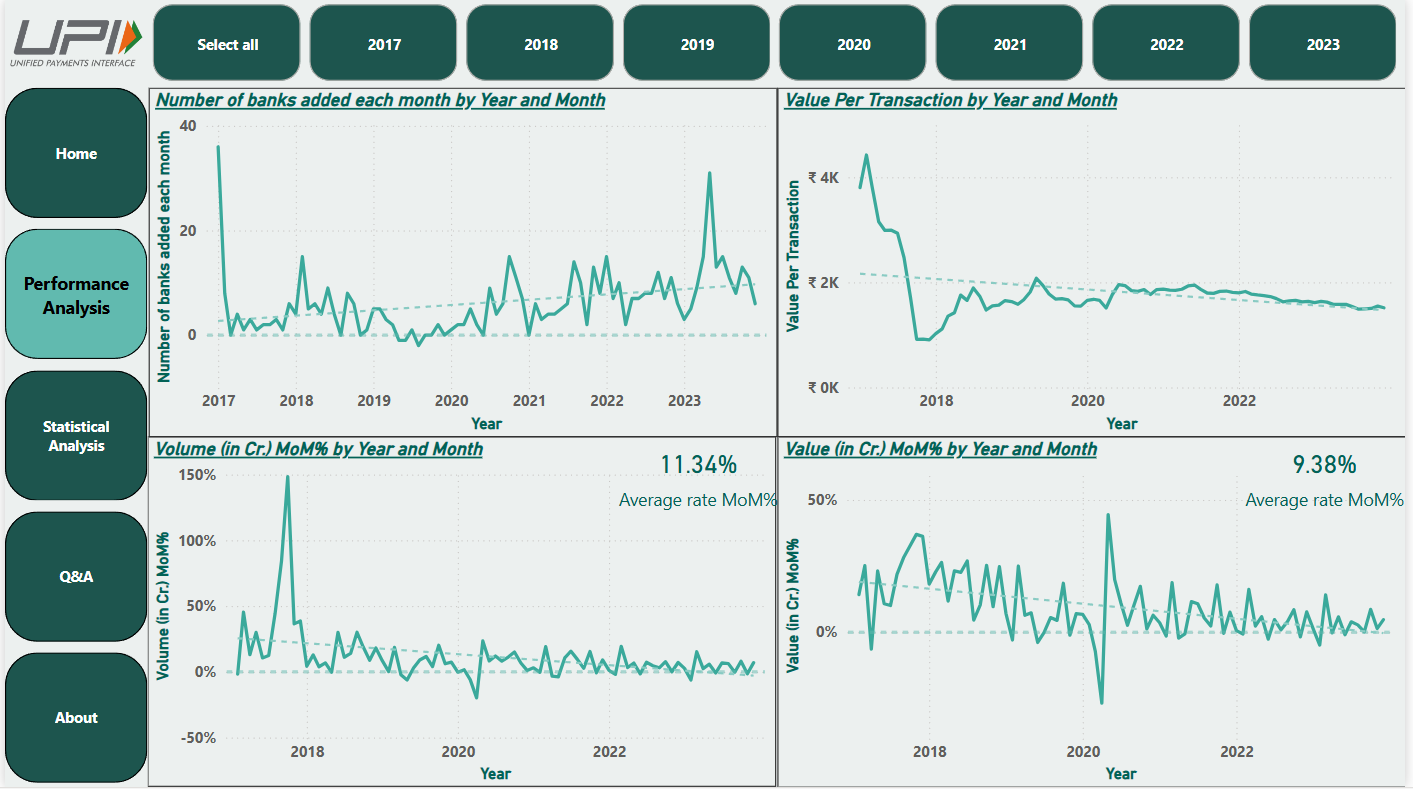

The dashboard page shown, as its layout file describes it:
{"tool":"powerbi","page":{"name":"Performance Analysis","canvas":[1280,720],"ordinal":1},"visuals":[{"type":"lineChart","fields":{"Category":["UPI Data.Month.Variation.Date Hierarchy.Year","UPI Data.Month.Variation.Date Hierarchy.Month"],"Y":["UPI Data.Value (in Cr.) MoM%"]},"box":[705.5,399.2,574.1,320.8],"z":0},{"type":"lineChart","fields":{"Category":["UPI Data.Month.Variation.Date Hierarchy.Year","UPI Data.Month.Variation.Date Hierarchy.Month"],"Y":["UPI Data.Volume (in Cr.) MoM%"]},"box":[129.8,399.6,574.2,320.3],"z":1000},{"type":"lineChart","fields":{"Category":["UPI Data.Month.Variation.Date Hierarchy.Year","UPI Data.Month.Variation.Date Hierarchy.Month"],"Y":["UPI Data.Value Per Transaction"]},"box":[705.3,80.7,574.5,319],"z":2000},{"type":"lineChart","title":"Number of banks added each month by Year and Month","fields":{"Y":["UPI Data.number of banks added each month"],"Category":["UPI Data.Month.Variation.Date Hierarchy.Year","UPI Data.Month.Variation.Date Hierarchy.Month"]},"box":[130.8,80.7,574.5,319],"z":3000},{"type":"advancedSlicerVisual","fields":{"Values":["UPI Data.Month.Variation.Date Hierarchy.Year"]},"box":[129.8,0,1149.9,80.8],"z":4000},{"type":"image","box":[0,0,130.8,80.7],"z":5000},{"type":"pageNavigator","box":[0,80.7,130.8,639.3],"z":6000},{"type":"card","fields":{"Values":["_Measures.Average rate of Value MoM%"]},"box":[1130.4,399.3,149.6,71.2],"z":7000},{"type":"card","fields":{"Values":["_Measures.Average rate of Volume MoM%"]},"box":[557.4,399.3,147.2,71.2],"z":8000}]}

Visuals, with their boxes in screenshot pixels (x1, y1, x2, y2), scaled from the page's 1280x720 canvas onto the 1413x789 screenshot:
lineChart - UPI Data.Month.Variation.Date Hierarchy.Year x UPI Data.Month.Variation.Date Hierarchy.Month: left=779, top=437, right=1412, bottom=788
lineChart - UPI Data.Month.Variation.Date Hierarchy.Year x UPI Data.Month.Variation.Date Hierarchy.Month: left=143, top=438, right=777, bottom=788
lineChart - UPI Data.Month.Variation.Date Hierarchy.Year x UPI Data.Month.Variation.Date Hierarchy.Month: left=779, top=88, right=1412, bottom=438
"Number of banks added each month by Year and Month" lineChart: left=144, top=88, right=779, bottom=438
advancedSlicerVisual - UPI Data.Month.Variation.Date Hierarchy.Year: left=143, top=0, right=1412, bottom=89
image: left=0, top=0, right=144, bottom=88
pageNavigator: left=0, top=88, right=144, bottom=788
card - _Measures.Average rate of Value MoM%: left=1248, top=438, right=1412, bottom=516
card - _Measures.Average rate of Volume MoM%: left=615, top=438, right=778, bottom=516
